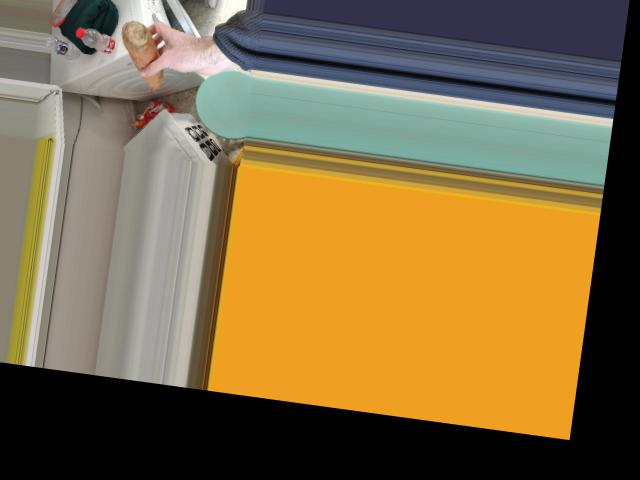sweet_potato: (113, 19, 167, 90)
